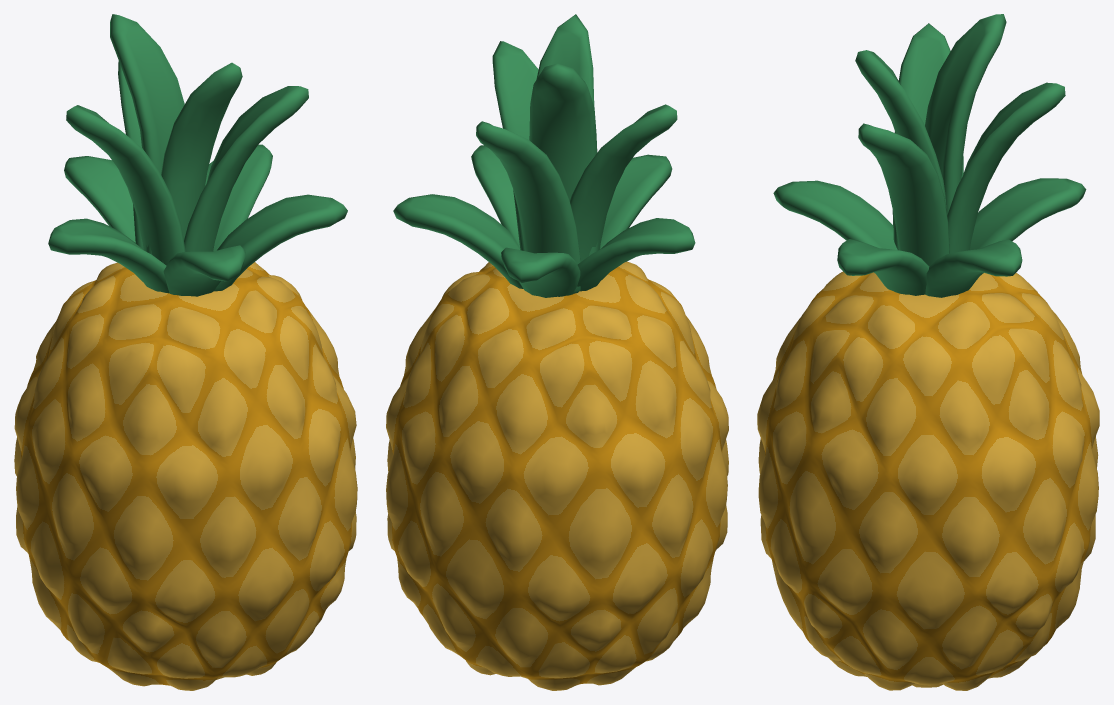
Rendered from Pineapple_02.dae.
3 renders of one model, left to right at view 1: azimuth 30°, elevation 25°; view 2: azimuth 150°, elevation 25°; view 3: azimuth 270°, elevation 25°, orthographic.
Parts seen in each view (by area): view 1: Pineapple_02_LOD0; view 2: Pineapple_02_LOD0; view 3: Pineapple_02_LOD0.
Part boxes in pixels (x1=…): Pineapple_02_LOD0: x1=14, y1=14, x2=357, y2=690; Pineapple_02_LOD0: x1=386, y1=14, x2=728, y2=690; Pineapple_02_LOD0: x1=757, y1=14, x2=1099, y2=690.
Size of what is drawn, in the model's own units: 4.62 by 4.62 by 9.47.
